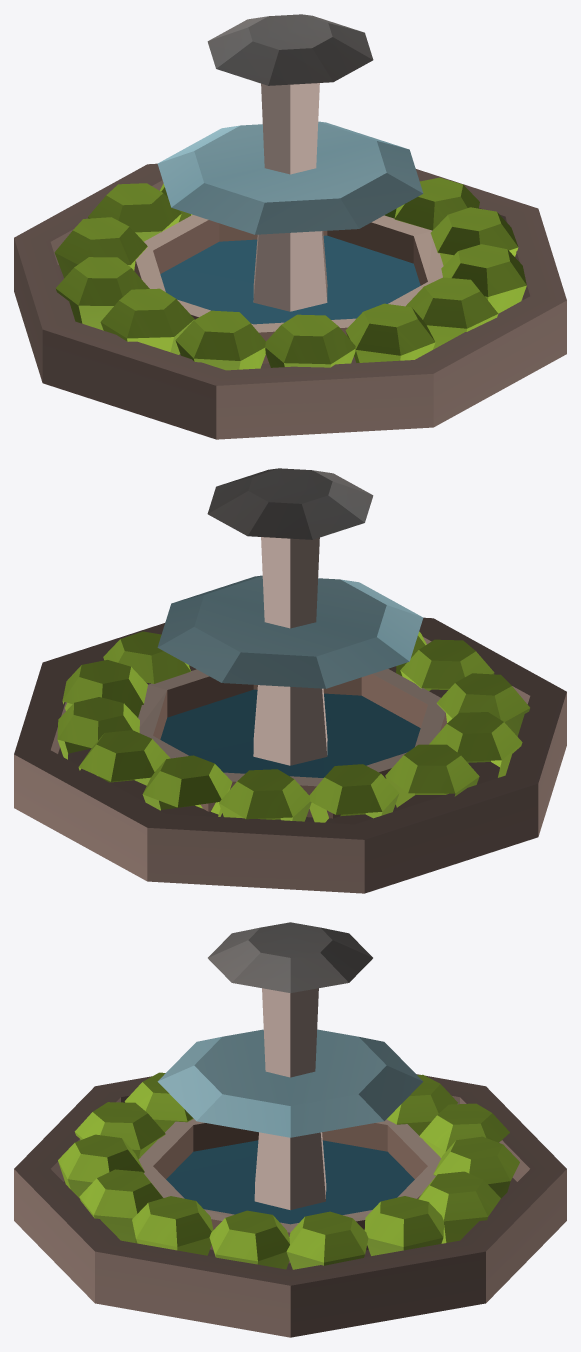
File: city-decor13.fbx
The picture shows the model from 3 angles, top to bottom: view 1: azimuth 30°, elevation 25°; view 2: azimuth 150°, elevation 25°; view 3: azimuth 270°, elevation 25°; orthographic projection. The views are drawn at different scales.
Visible parts, largest first — view 1: city-decor13; view 2: city-decor13; view 3: city-decor13.
Boxes of the visible parts, x1=… form: city-decor13: x1=14, y1=14, x2=566, y2=439; city-decor13: x1=14, y1=468, x2=566, y2=893; city-decor13: x1=14, y1=922, x2=566, y2=1337.
Size of the model in its own units: 2.06 by 1.16 by 2.06.
1 material, 1 textured.
